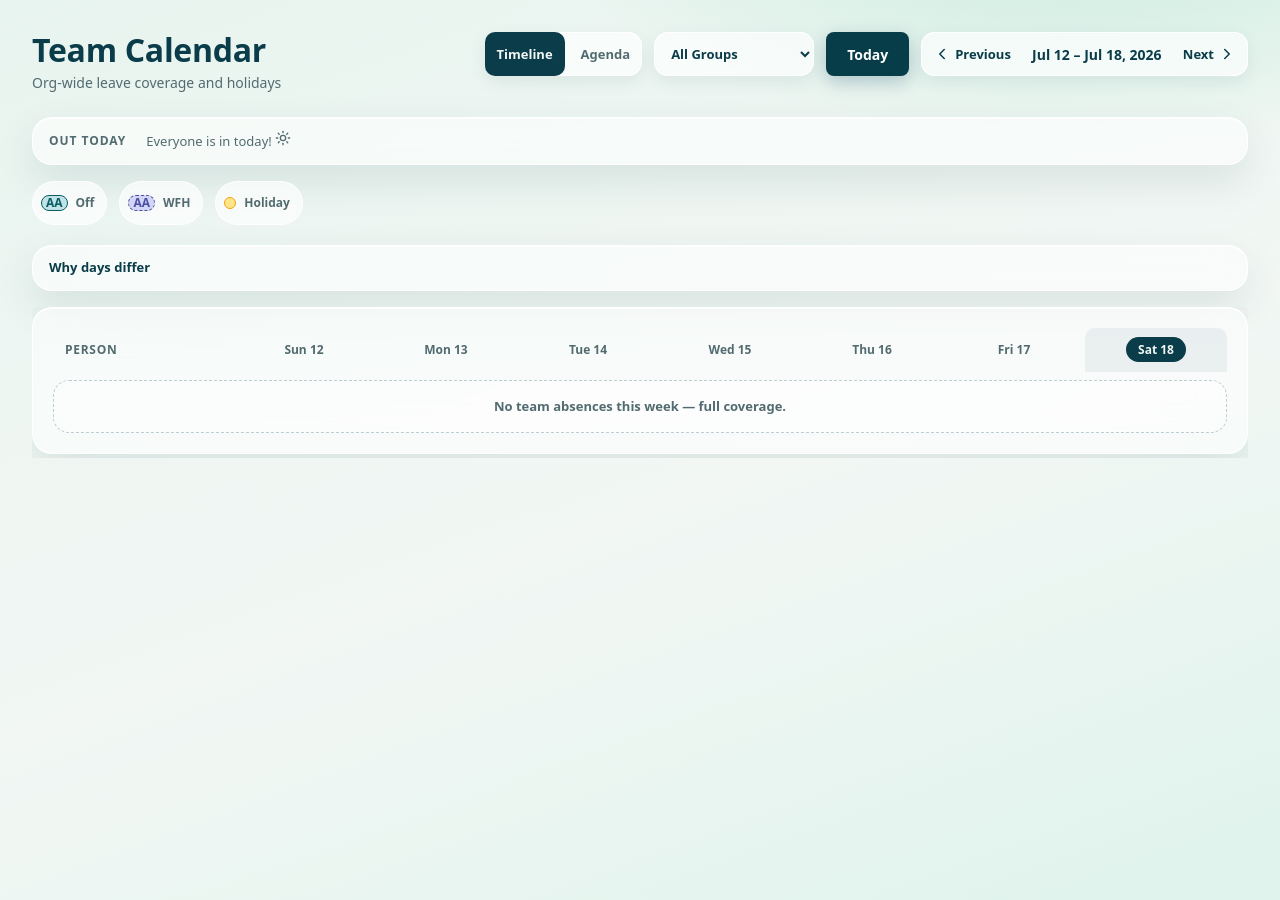
Test case: TeamCalendarPage › [P1] opens the majority month for a cross-month Timeline week
Expected: the element with test id "calendar-timeline" is shown, [32,307,1248,458]
What coordinates should you click on to do the following:
click the button with test id "calendar-next-week"
I would click on:
 (1209, 54)
Its box is [1171,32,1248,76].
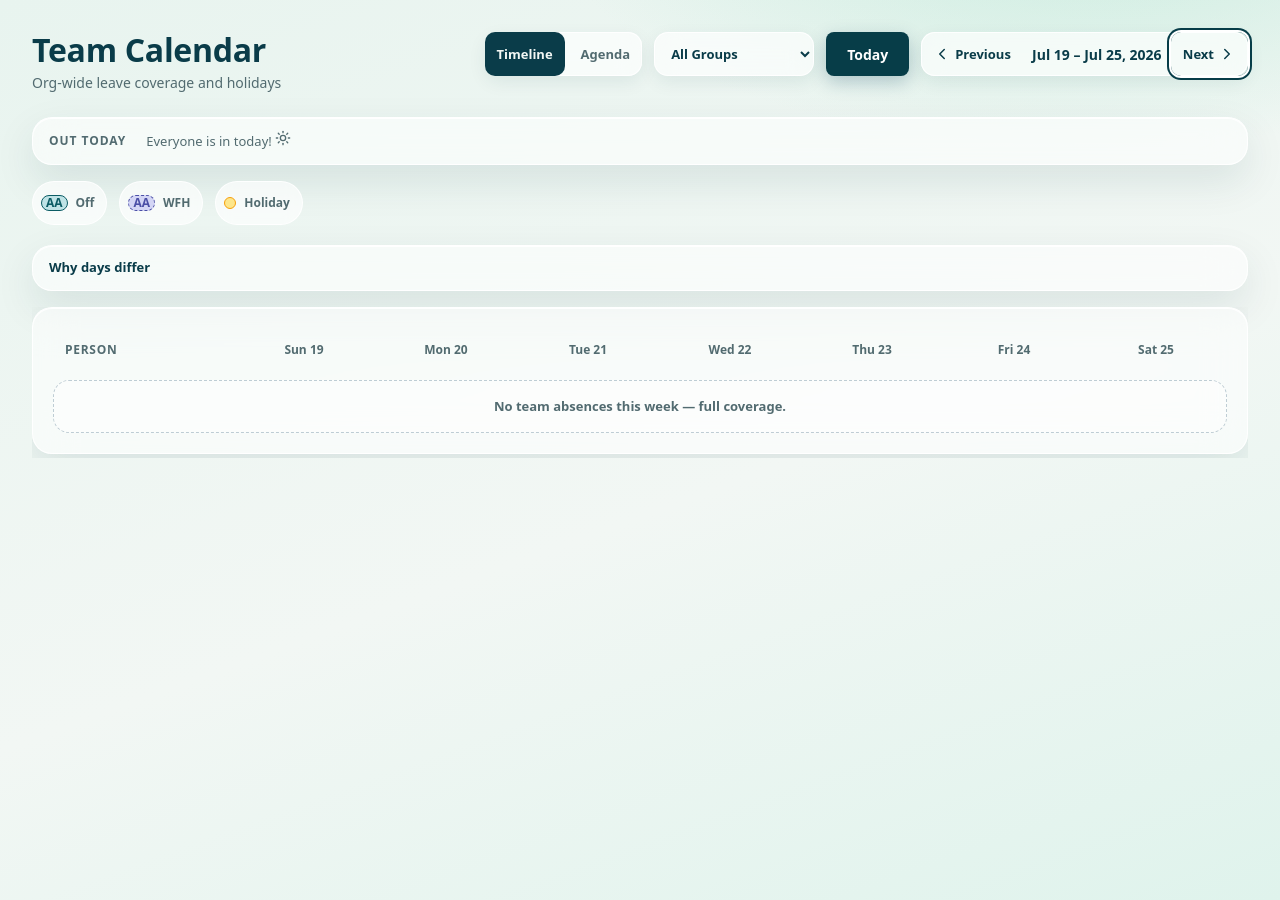
What coordinates should you click on to do the following:
click the button with test id "calendar-next-week"
I would click on:
 (1209, 54)
Its box is [1171,32,1248,76].
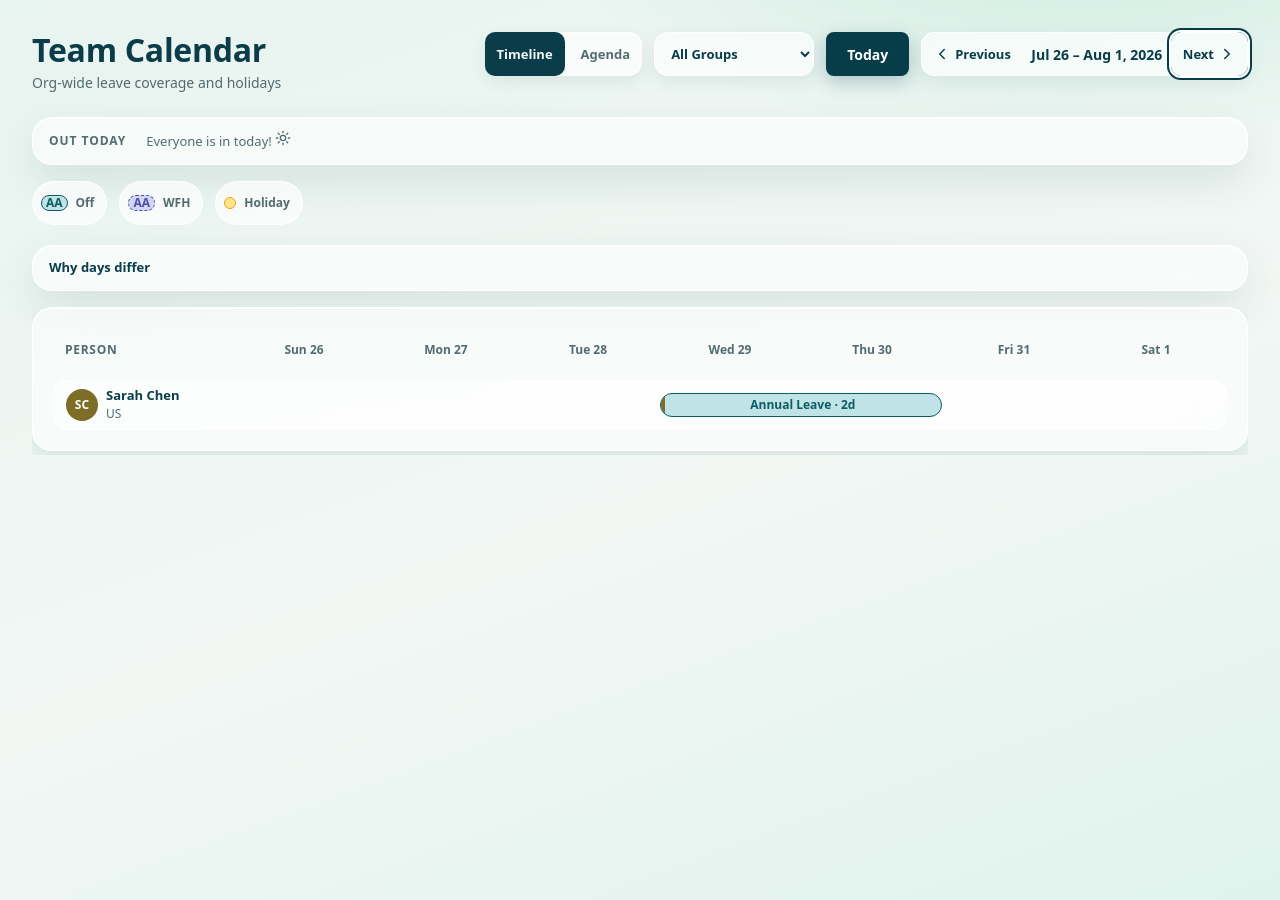
Expected: the text "Jul 26 – Aug 1, 2026" is shown, [1031,44,1162,64]
What coordinates should you click on to do the following:
click the button "Agenda"
I would click on:
 (605, 54)
Its box is [569,32,642,76].
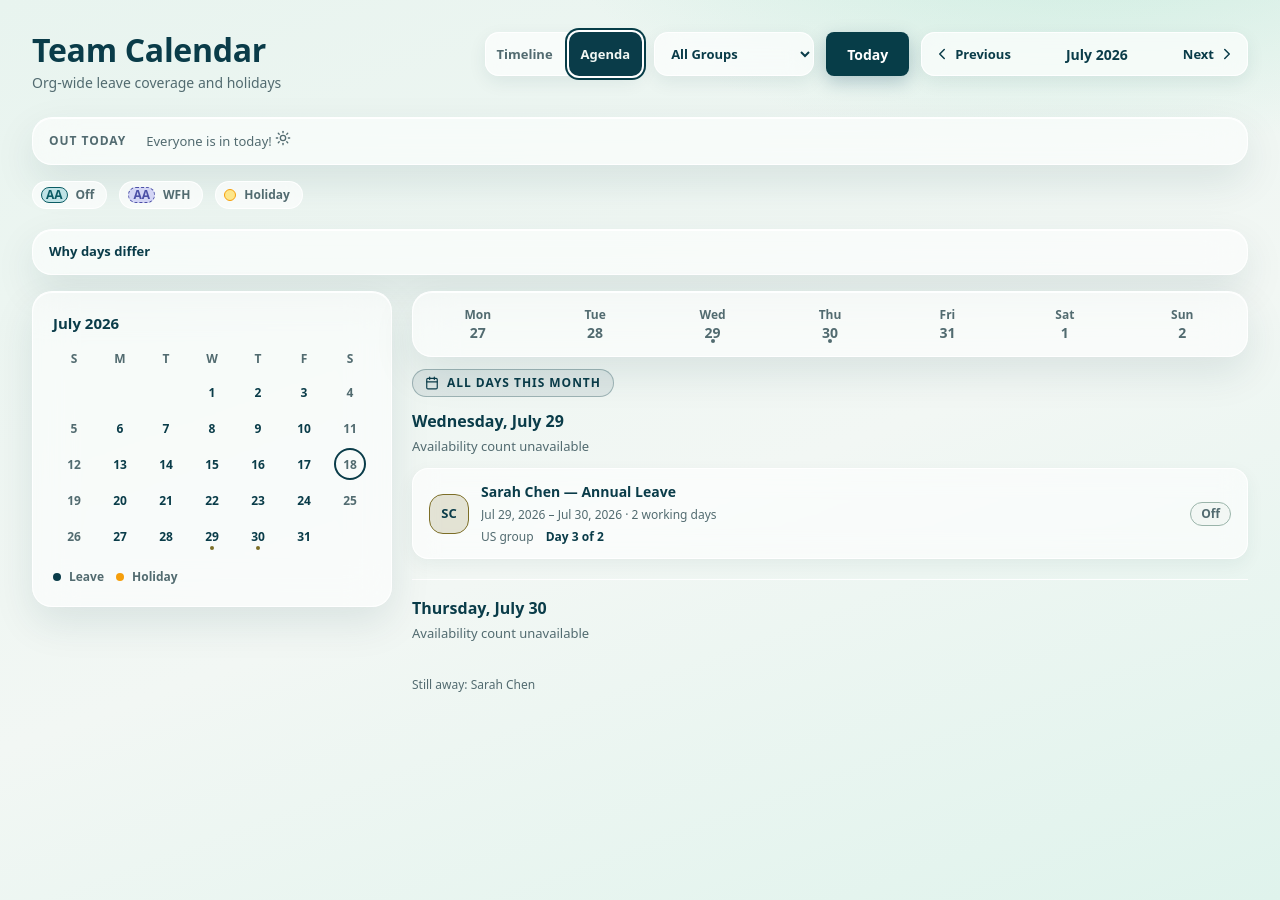
Expected: the element with test id "calendar-mini-month" shows "July 2026", [53,313,119,333]
Expected: the text "Sarah Chen — Annual Leave" is shown, [481,482,676,501]
